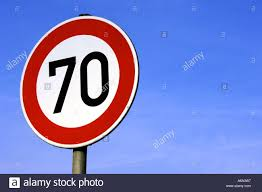Speed_limit_70km: (20, 16, 138, 148)
